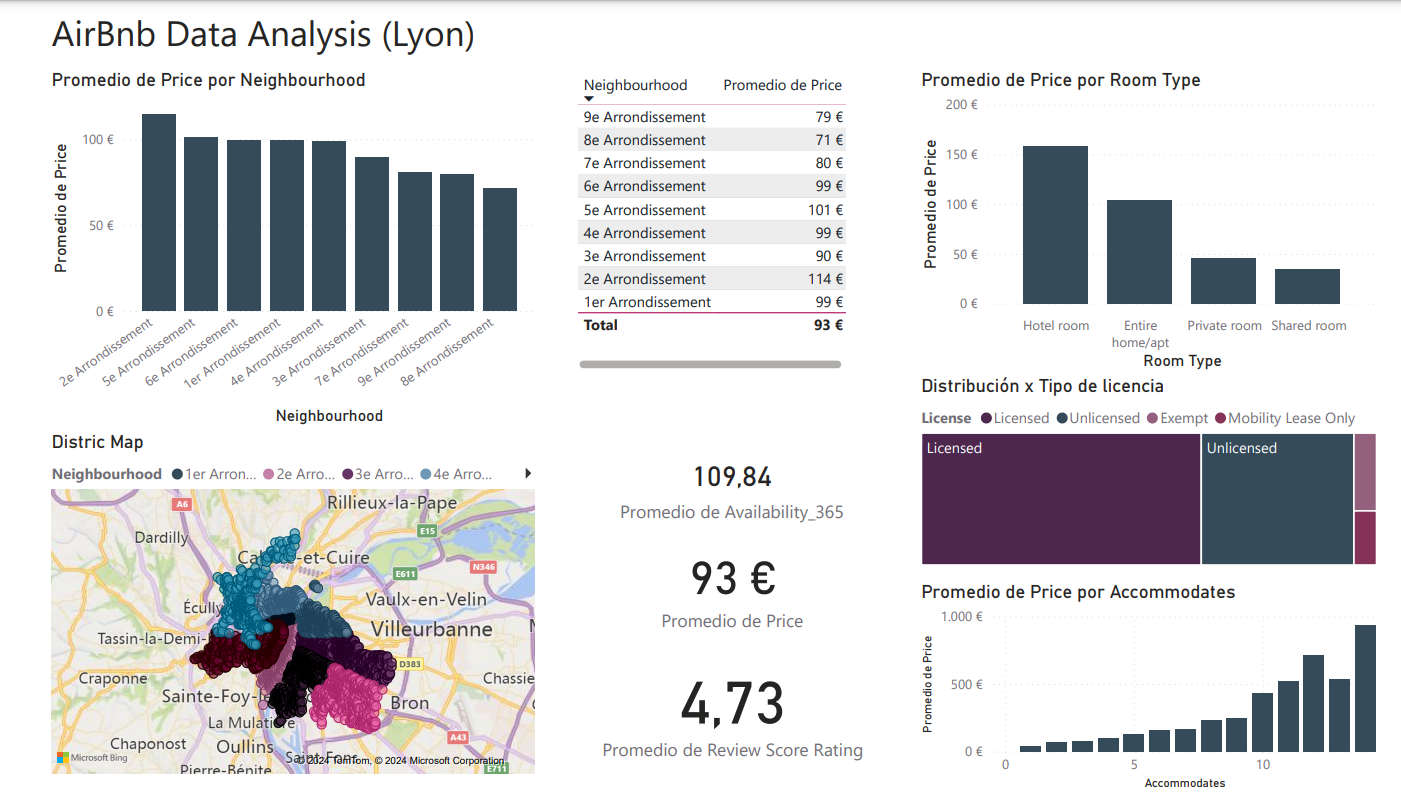

This screenshot's page, from the dashboard's own definition file:
{"tool":"powerbi","page":{"name":"Resumen","canvas":[1280,720],"ordinal":0},"visuals":[{"type":"clusteredColumnChart","fields":{"Y":["Avg(df_clean.price)"],"Category":["df_clean.neighbourhood_cleansed"]},"box":[45.3,60.4,448.7,329.3],"z":0},{"type":"clusteredColumnChart","fields":{"Y":["Avg(df_clean.price)"],"Category":["df_clean.room_type"]},"box":[835.7,60.4,435,278.6],"z":1000},{"type":"map","title":"Distric Map","fields":{"X":["df_clean.longitude"],"Y":["df_clean.latitude"],"Series":["df_clean.Neighbourhood"]},"box":[45.3,389.7,448.7,317],"z":2000},{"type":"card","fields":{"Values":["Avg(df_clean.price)"]},"box":[569.5,484.4,200.3,91.9],"z":3000},{"type":"card","fields":{"Values":["Avg(df_clean.availability_365)"]},"box":[561.2,403.4,215.4,75.5],"z":4000},{"type":"tableEx","fields":{"Values":["df_clean.neighbourhood_cleansed","Avg(df_clean.price)"]},"box":[522.8,60.4,253.9,278.6],"z":5000},{"type":"clusteredColumnChart","fields":{"Y":["Avg(df_clean.price)"],"Category":["df_clean.accommodates"]},"box":[835.7,525.6,444.6,194.8],"z":6000},{"type":"textbox","box":[0,0,494,60.4],"z":7000},{"type":"treemap","fields":{"Group":["df_clean.license"],"Values":["Divide(Sum(df_clean.id), ScopedEval(Sum(df_clean.id), []))"]},"box":[835.7,338.9,444.6,178.4],"z":8000},{"type":"card","fields":{"Values":["Avg(df_clean.Review Score Rating)"]},"box":[542,576.3,255.2,130.4],"z":9000}]}

Visuals, with their boxes in screenshot pixels (x1, y1, x2, y2), scaled from the page's 1280x720 canvas onto the 1401x794 screenshot:
clusteredColumnChart - Avg(df_clean.price) x df_clean.neighbourhood_cleansed: <box>50,67,541,430</box>
clusteredColumnChart - Avg(df_clean.price) x df_clean.room_type: <box>915,67,1391,374</box>
"Distric Map" map: <box>50,430,541,779</box>
card - Avg(df_clean.price): <box>623,534,843,636</box>
card - Avg(df_clean.availability_365): <box>614,445,850,528</box>
tableEx - df_clean.neighbourhood_cleansed x Avg(df_clean.price): <box>572,67,850,374</box>
clusteredColumnChart - Avg(df_clean.price) x df_clean.accommodates: <box>915,580,1400,793</box>
textbox: <box>0,0,541,67</box>
treemap - df_clean.license x Divide(Sum(df_clean.id), ScopedEval(Sum(df_clean.id), [])): <box>915,374,1400,570</box>
card - Avg(df_clean.Review Score Rating): <box>593,636,873,779</box>
